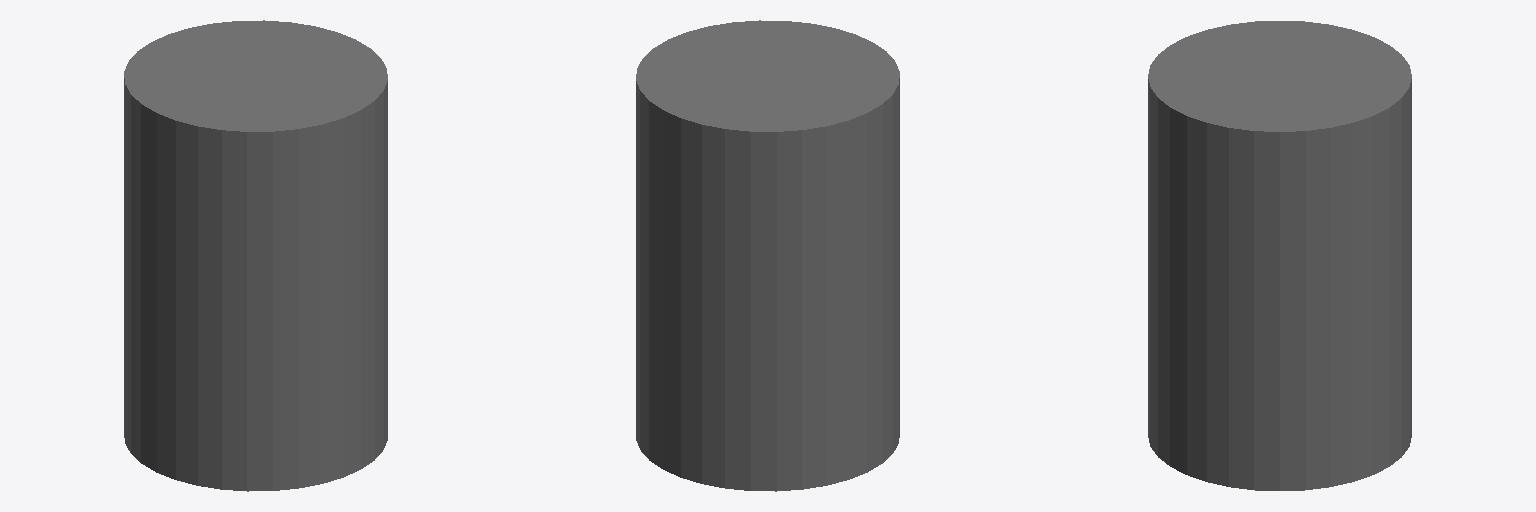
URDF robot description (turtlebot3_burger):
<?xml version="1.0" ?>
<robot name="turtlebot3_burger"
  xmlns:xacro="http://ros.org/wiki/xacro">
  <!-- <xacro:include filename="$(find turtlebot3_description)/urdf/common_properties.urdf"/> -->

  <!-- Init colour -->
  <material name="black">
      <color rgba="0.0 0.0 0.0 1.0"/>
  </material>

  <material name="dark">
    <color rgba="0.3 0.3 0.3 1.0"/>
  </material>

  <material name="light_black">
    <color rgba="0.4 0.4 0.4 1.0"/>
  </material>

  <material name="blue">
    <color rgba="0.0 0.0 0.8 1.0"/>
  </material>

  <material name="green">
    <color rgba="0.0 0.8 0.0 1.0"/>
  </material>

  <material name="grey">
    <color rgba="0.5 0.5 0.5 1.0"/>
  </material>

  <material name="orange">
    <color rgba="1.0 0.4235 0.0392 1.0"/>
  </material>

  <material name="brown">
    <color rgba="0.8706 0.8118 0.7647 1.0"/>
  </material>

  <material name="red">
    <color rgba="0.8 0.0 0.0 1.0"/>
  </material>

  <material name="white">
    <color rgba="1.0 1.0 1.0 1.0"/>
  </material>

  <link name="base_footprint"/>

  <joint name="base_joint" type="fixed">
    <parent link="base_footprint"/>
    <child link="base_link"/>
    <origin xyz="0.0 0.0 0.010" rpy="0 0 0"/>
  </joint>

  <link name="base_link">
    <visual>
      <origin xyz="-0.032 0 0.0" rpy="0 0 0"/>
      <geometry>
        <mesh filename="package://turtlebot3_gazebo/models/turtlebot3_common/meshes/bases/burger_base.stl" scale="0.001 0.001 0.001"/>
      </geometry>
      <material name="light_black"/>
    </visual>

    <collision>
      <origin xyz="-0.032 0 0.070" rpy="0 0 0"/>
      <geometry>
        <box size="0.140 0.140 0.143"/>
      </geometry>
    </collision>

    <inertial>
      <origin xyz="0 0 0" rpy="0 0 0"/>
      <mass value="8.2573504e-01"/>
      <inertia ixx="2.2124416e-03" ixy="-1.2294101e-05" ixz="3.4938785e-05" iyy="2.1193702e-03" iyz="-5.0120904e-06" izz="2.0064271e-03" />
    </inertial>
  </link>

  <joint name="wheel_left_joint" type="continuous">
    <parent link="base_link"/>
    <child link="wheel_left_link"/>
    <origin xyz="0.0 0.08 0.023" rpy="-1.57 0 0"/>
    <axis xyz="0 0 1"/>
  </joint>

  <link name="wheel_left_link">
    <visual>
      <origin xyz="0 0 0" rpy="1.57 0 0"/>
      <geometry>
        <mesh filename="package://turtlebot3_gazebo/models/turtlebot3_common/meshes/wheels/left_tire.stl" scale="0.001 0.001 0.001"/>
      </geometry>
      <material name="dark"/>
    </visual>

    <collision>
      <origin xyz="0 0 0" rpy="0 0 0"/>
      <geometry>
        <cylinder length="0.018" radius="0.033"/>
      </geometry>
    </collision>

    <inertial>
      <origin xyz="0 0 0" />
      <mass value="2.8498940e-02" />
      <inertia ixx="1.1175580e-05" ixy="-4.2369783e-11" ixz="-5.9381719e-09" iyy="1.1192413e-05" iyz="-1.4400107e-11" izz="2.0712558e-05" />
    </inertial>
  </link>

  <joint name="wheel_right_joint" type="continuous">
    <parent link="base_link"/>
    <child link="wheel_right_link"/>
    <origin xyz="0.0 -0.080 0.023" rpy="-1.57 0 0"/>
    <axis xyz="0 0 1"/>
  </joint>

  <link name="wheel_right_link">
    <visual>
      <origin xyz="0 0 0" rpy="1.57 0 0"/>
      <geometry>
        <mesh filename="package://turtlebot3_gazebo/models/turtlebot3_common/meshes/wheels/right_tire.stl" scale="0.001 0.001 0.001"/>
      </geometry>
      <material name="dark"/>
    </visual>

    <collision>
      <origin xyz="0 0 0" rpy="0 0 0"/>
      <geometry>
        <cylinder length="0.018" radius="0.033"/>
      </geometry>
    </collision>

    <inertial>
      <origin xyz="0 0 0" />
      <mass value="2.8498940e-02" />
      <inertia ixx="1.1175580e-05" ixy="-4.2369783e-11" ixz="-5.9381719e-09" iyy="1.1192413e-05" iyz="-1.4400107e-11" izz="2.0712558e-05" />
    </inertial>
  </link>

  <joint name="caster_back_joint" type="fixed">
    <parent link="base_link"/>
    <child link="caster_back_link"/>
    <origin xyz="-0.081 0 -0.004" rpy="-1.57 0 0"/>
  </joint>

  <link name="caster_back_link">
    <collision>
      <origin xyz="0 0.001 0" rpy="0 0 0"/>
      <geometry>
        <box size="0.030 0.009 0.020"/>
      </geometry>
    </collision>

    <inertial>
      <origin xyz="0 0 0" />
      <mass value="0.005" />
      <inertia ixx="0.001" ixy="0.0" ixz="0.0" iyy="0.001" iyz="0.0" izz="0.001" />
    </inertial>
  </link>

  <joint name="imu_joint" type="fixed">
    <parent link="base_link"/>
    <child link="imu_link"/>
    <origin xyz="-0.032 0 0.068" rpy="0 0 0"/>
  </joint>

  <link name="imu_link"/>

  <joint name="scan_joint" type="fixed">
    <parent link="base_link"/>
    <child link="base_scan"/>
    <origin xyz="-0.032 0 0.172" rpy="0 0 0"/>
  </joint>

  <link name="base_scan">
    <visual>
      <origin xyz="0 0 0.0" rpy="0 0 0"/>
      <geometry>
        <mesh filename="package://turtlebot3_gazebo/models/turtlebot3_common/meshes/sensors/lds.stl" scale="0.001 0.001 0.001"/>
      </geometry>
      <material name="dark"/>
    </visual>

    <collision>
      <origin xyz="0.015 0 -0.0065" rpy="0 0 0"/>
      <geometry>
        <cylinder length="0.0315" radius="0.055"/>
      </geometry>
    </collision>

    <inertial>
      <mass value="0.114" />
      <origin xyz="0 0 0" />
      <inertia ixx="0.001" ixy="0.0" ixz="0.0" iyy="0.001" iyz="0.0" izz="0.001" />
    </inertial>
  </link>
<link name="velodyne_link">
    <visual>
      <geometry>
        <cylinder radius="0.04" length="0.12"/>
      </geometry>
      <material name="silver">
        <color rgba="0.5 0.5 0.5 1"/>
      </material>
    </visual>
    <collision>
      <geometry>
        <cylinder radius="0.04" length="0.12"/>
      </geometry>
    </collision>
    <inertial>
      <mass value="1.2"/>
      <inertia ixx="0.01" iyy="0.01" izz="0.02" ixy="0" ixz="0" iyz="0"/>
    </inertial>
  </link>

  <!-- Velodyne Fixed Joint -->
  <joint name="velodyne_joint" type="fixed">
    <parent link="base_link"/>
    <child link="velodyne_link"/>
    <origin xyz="0 0 0.25" rpy="0 0 0"/>
  </joint>

  <!-- Gazebo Plugin -->
  <gazebo reference="velodyne_link">
    <sensor type="gpu_ray" name="velodyne_sensor">
      <update_rate>10</update_rate>
      <ray>
        <scan>
          <horizontal>
            <samples>256</samples>
            <min_angle>0</min_angle>
            <max_angle>6.283</max_angle>
          </horizontal>
          <vertical>
            <samples>8</samples>
            <min_angle>-0.2618</min_angle>
            <max_angle>0.2618</max_angle>
          </vertical>
        </scan>
        <range>
          <min>0.1</min>
          <max>100</max>
        </range>
      </ray>
      <plugin name="velodyne_lidar" filename="libgazebo_ros_velodyne_laser.so">
        <ros>
          <namespace>/velodyne</namespace>
          <remapping>~/points:=/velodyne_points</remapping>
        </ros>
        <frame_name>velodyne_link</frame_name>
        <min_range>0.1</min_range>
        <max_range>100.0</max_range>
        <horizontal_resolution>0.007</horizontal_resolution>
        <vertical_resolution>0.008</vertical_resolution>
      </plugin>
    </sensor>
  </gazebo>

</robot>

--- Render facts (derived) ---
3 views of the same robot in one strip: view 1: azimuth 30°, elevation 25°; view 2: azimuth 150°, elevation 25°; view 3: azimuth 270°, elevation 25° (orthographic).
Robot: turtlebot3_burger — 8 links, 7 joints (2 continuous, 5 fixed); root link base_footprint; default pose: all joints at 0.
Links seen in each view (by area): view 1: velodyne_link; view 2: velodyne_link; view 3: velodyne_link.
Link boxes in pixels (<box>): velodyne_link: <box>124,20,387,491</box>; velodyne_link: <box>636,20,899,491</box>; velodyne_link: <box>1148,21,1411,490</box>.
Size in the robot's own frame: 0.08 by 0.08 by 0.12 metres.
0 mesh visuals loaded from 4 distinct referenced files (none loaded); not drawn: 4 (reference not matched to a file when rendering).